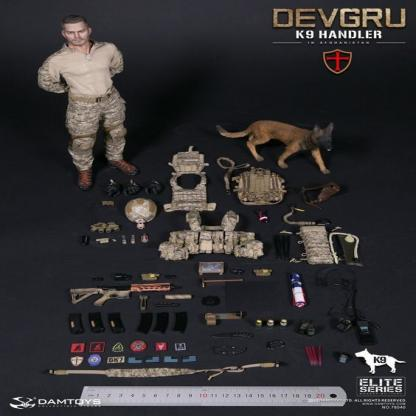Grenade: (297, 318, 313, 335), (306, 323, 318, 337)
Gun: (69, 282, 183, 307)
Knife: (210, 331, 254, 341)
